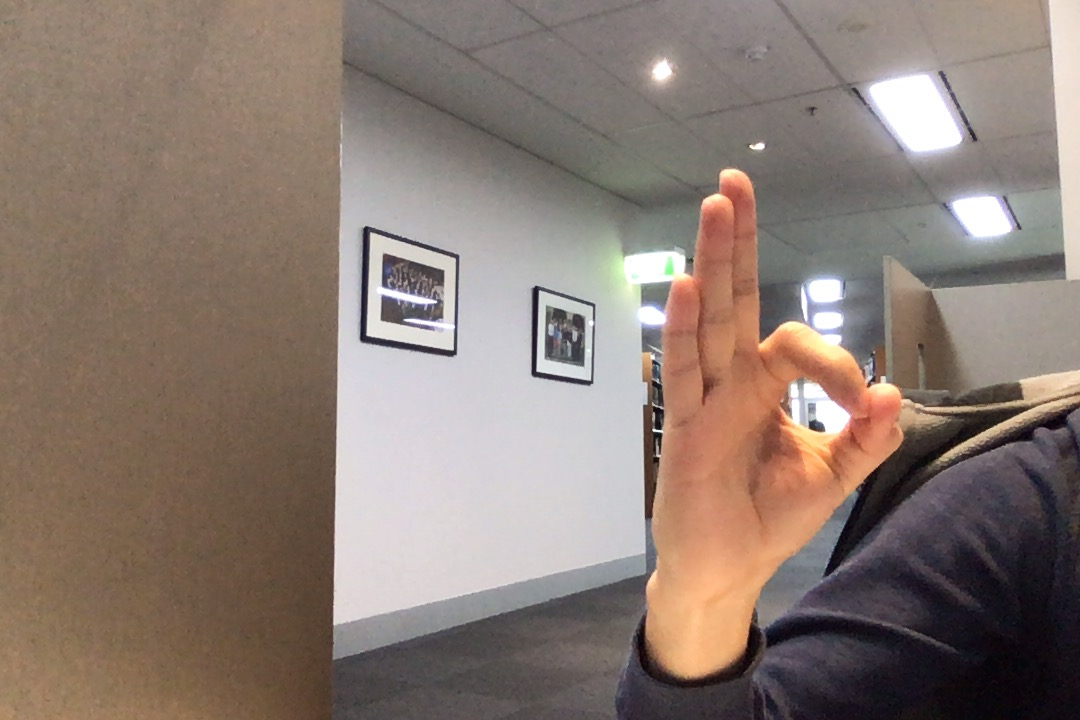oksign: (642, 156, 915, 589)
